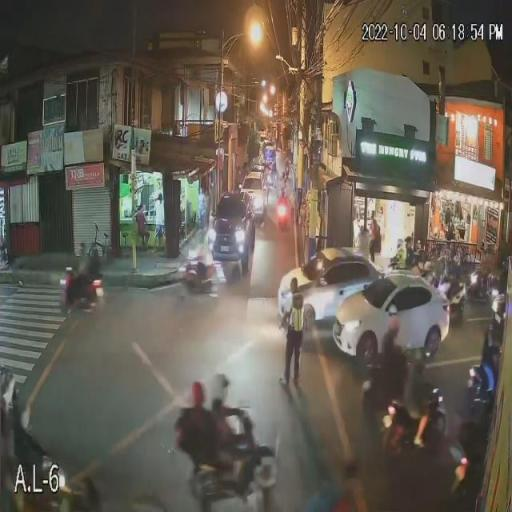helmet: (413, 344, 431, 368), (189, 381, 206, 404), (401, 233, 424, 249), (214, 373, 230, 393), (385, 311, 401, 327), (72, 240, 88, 256), (85, 242, 103, 253)
motorcycle: (186, 401, 278, 508), (378, 385, 448, 464), (60, 260, 104, 314), (464, 357, 498, 422), (417, 260, 451, 318), (174, 254, 217, 297), (452, 258, 480, 312), (275, 196, 291, 230)
rider: (374, 316, 426, 446), (208, 374, 254, 464), (174, 382, 221, 468), (462, 326, 497, 408), (64, 249, 102, 306), (183, 240, 216, 286), (276, 182, 290, 220)
